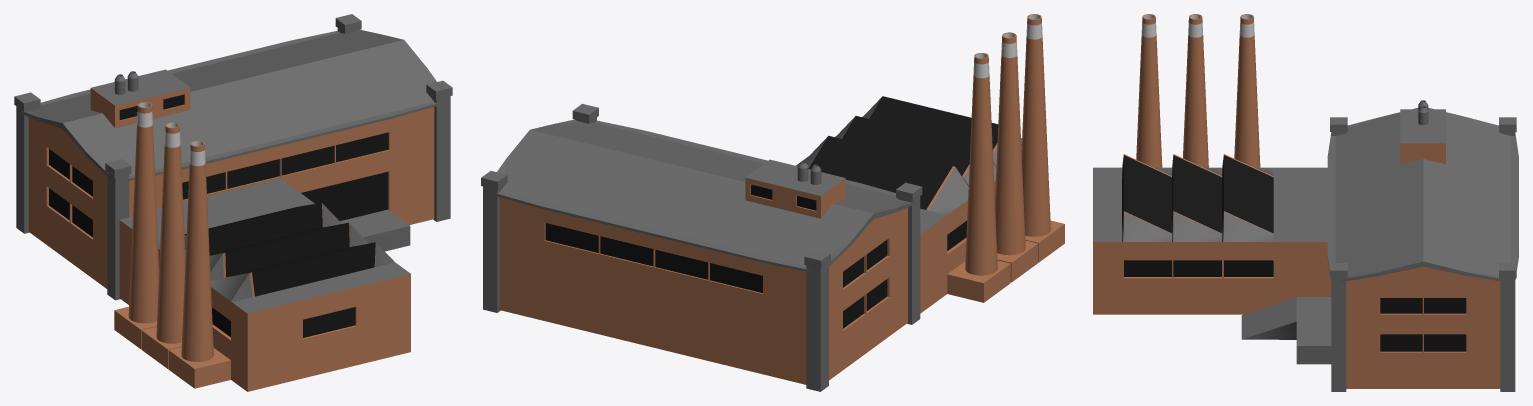
The model's file is Factory1.fbx.
3 views of the same model, side by side, from view 1: azimuth 30°, elevation 25°; view 2: azimuth 150°, elevation 25°; view 3: azimuth 270°, elevation 25° (orthographic). The views are drawn at different scales.
Visible parts, largest first — view 1: Factory3; view 2: Factory3; view 3: Factory3.
Part boxes in pixels (left/top/right/bottom): Factory3: left=14, top=14, right=452, bottom=391; Factory3: left=481, top=14, right=1064, bottom=391; Factory3: left=1093, top=14, right=1518, bottom=391.
Bounding box in the file's own units: 7.97 × 4.77 × 8.53.
